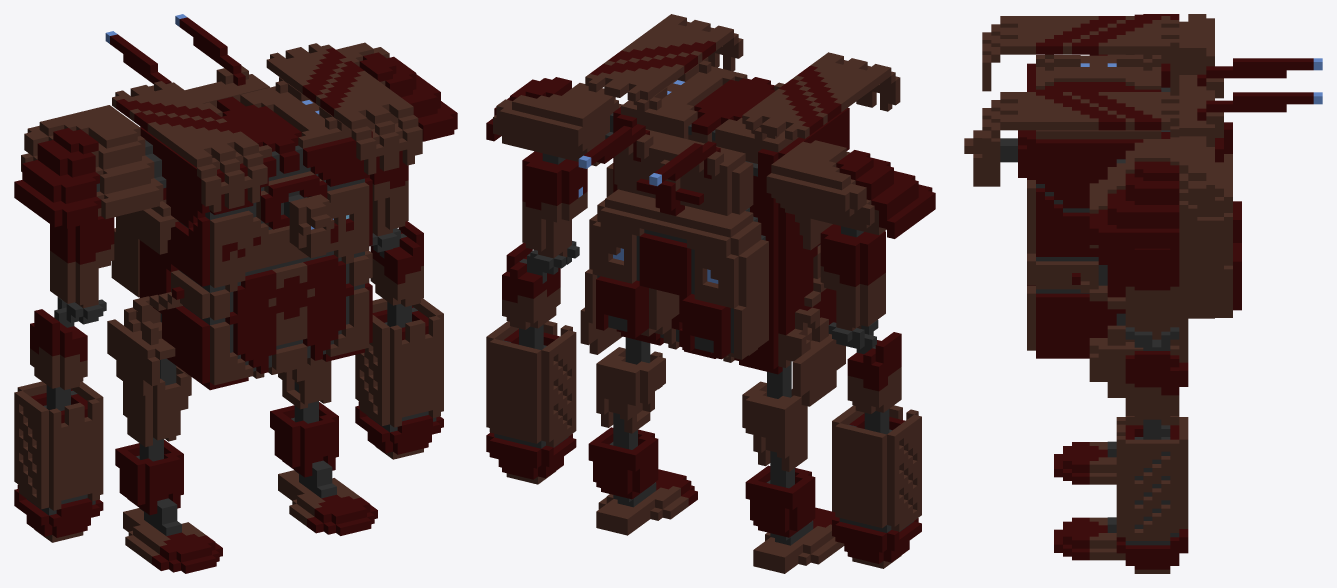
File: MechaGolem.glb
The picture shows the model from 3 angles, left to right: view 1: azimuth 30°, elevation 25°; view 2: azimuth 150°, elevation 25°; view 3: azimuth 270°, elevation 25°; orthographic projection.
Visible parts, largest first — view 1: Mesh_0; view 2: Mesh_0; view 3: Mesh_0.
Part boxes in pixels (x1,y1,x2,y2): Mesh_0: (14,14,457,573); Mesh_0: (486,14,935,573); Mesh_0: (964,14,1322,573).
Size of the model in its own units: 1.93 by 2 by 1.48.
